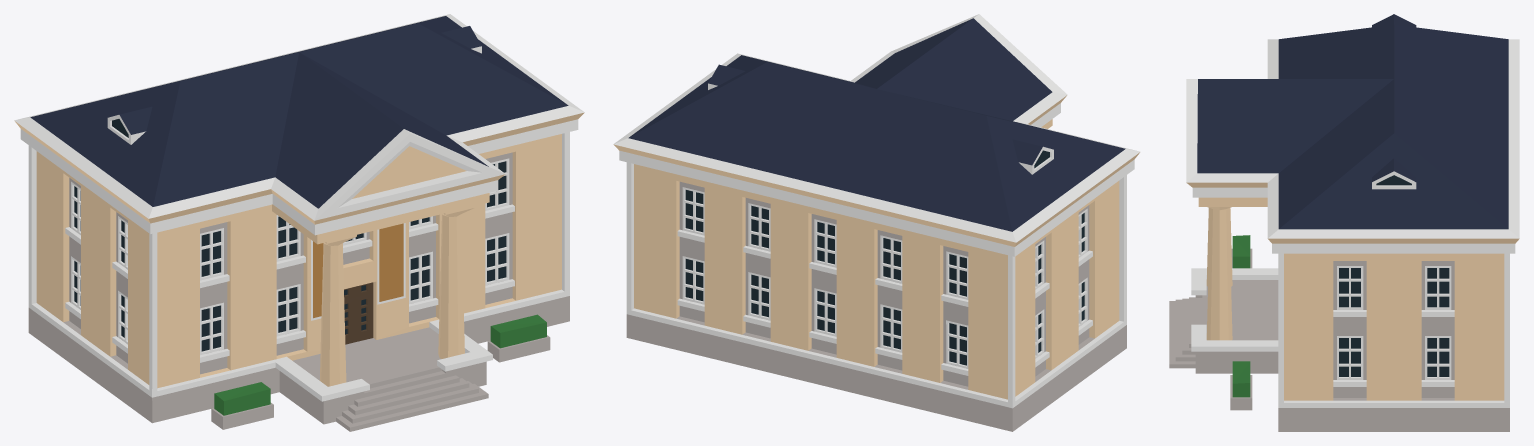
The model's file is building-museum.glb.
3 renders of one model, left to right at view 1: azimuth 30°, elevation 25°; view 2: azimuth 150°, elevation 25°; view 3: azimuth 270°, elevation 25°, orthographic. The views are drawn at different scales.
Visible parts, largest first — view 1: building-museum; view 2: building-museum; view 3: building-museum.
Part boxes in pixels (bbox=[...]): building-museum: bbox=[14, 14, 584, 431]; building-museum: bbox=[613, 14, 1140, 431]; building-museum: bbox=[1169, 14, 1519, 431].
Bounding box in the file's own units: 21.41 × 12.89 × 15.9.
Materials: 1 (1 with a texture image).
